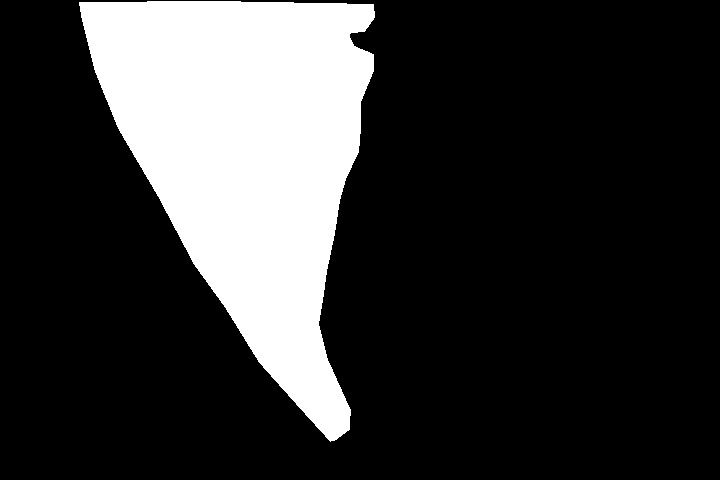Fire: (74, 2, 376, 442)
